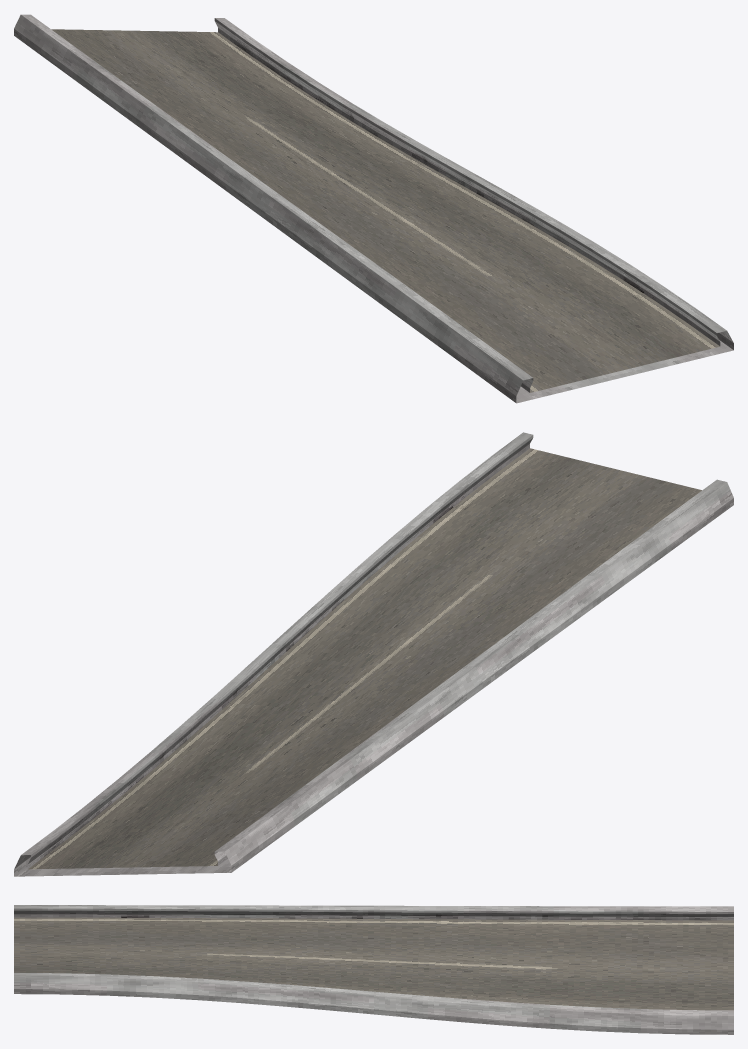
File: straight4.glb
3 views of the same model, one above another, from view 1: azimuth 30°, elevation 25°; view 2: azimuth 150°, elevation 25°; view 3: azimuth 270°, elevation 25° (orthographic). The views are drawn at different scales.
Visible parts, largest first — view 1: road-Straight-Flat-HalfBankedRight-Down1-Center-Size4; view 2: road-Straight-Flat-HalfBankedRight-Down1-Center-Size4; view 3: road-Straight-Flat-HalfBankedRight-Down1-Center-Size4.
Part boxes in pixels (x1,y1,x2,y2): road-Straight-Flat-HalfBankedRight-Down1-Center-Size4: (14,14,733,403); road-Straight-Flat-HalfBankedRight-Down1-Center-Size4: (14,432,733,876); road-Straight-Flat-HalfBankedRight-Down1-Center-Size4: (14,905,733,1034).
Bounding box in the file's own units: 1 × 0.3438 × 4.
Materials: 2 (2 with a texture image).
